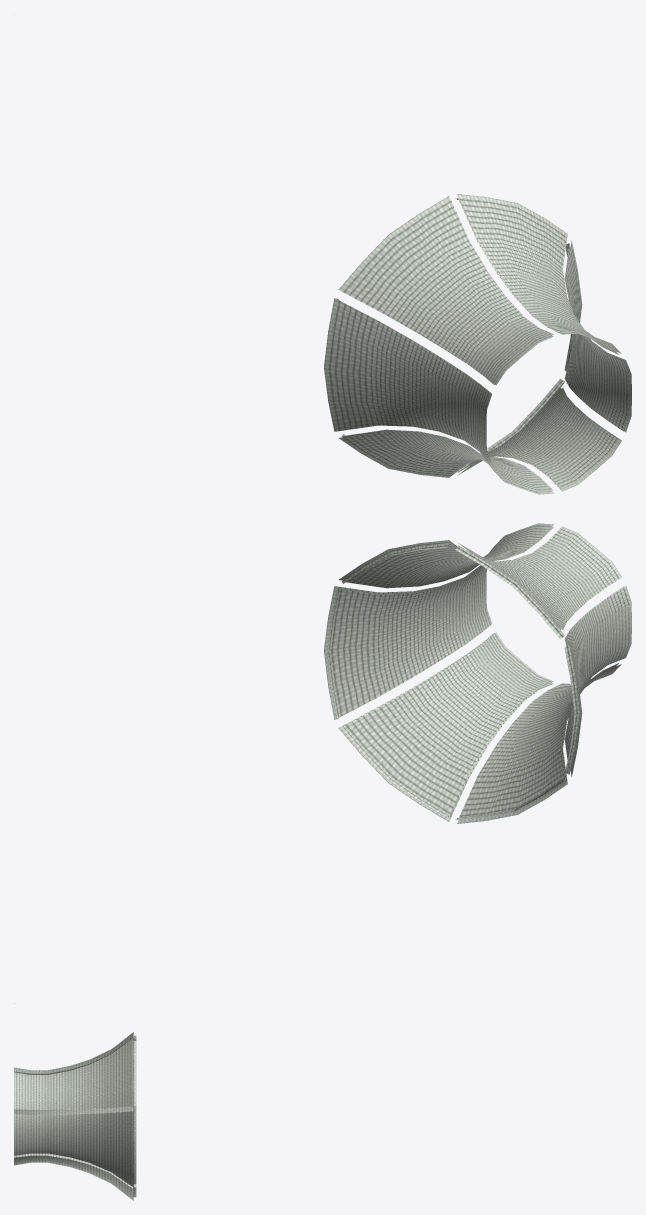
The model's file is MeshFloorLamp_24_0_GeomSubset_2.obj.
3 views of the same model, one above another, from view 1: azimuth 30°, elevation 25°; view 2: azimuth 150°, elevation 25°; view 3: azimuth 270°, elevation 25° (orthographic). The views are drawn at different scales.
Visible parts, largest first — view 1: MeshFloorLamp_24_0_GeomSubset_2; view 2: MeshFloorLamp_24_0_GeomSubset_2; view 3: MeshFloorLamp_24_0_GeomSubset_2.
Boxes of the visible parts, x1,y1,x2,y2 form: MeshFloorLamp_24_0_GeomSubset_2: [14, 14, 631, 494]; MeshFloorLamp_24_0_GeomSubset_2: [14, 523, 631, 1003]; MeshFloorLamp_24_0_GeomSubset_2: [14, 1032, 136, 1200].
Size of the model in its own units: 0.5414 by 0.5648 by 1.97.
